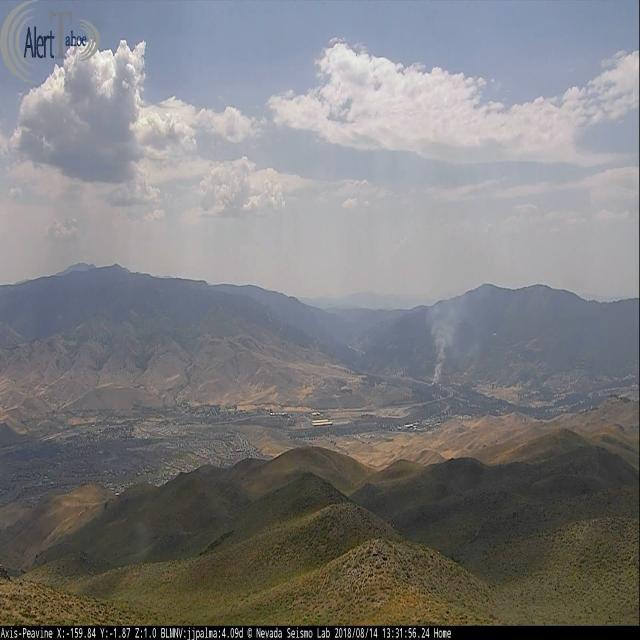smoke: (426, 297, 461, 390)
